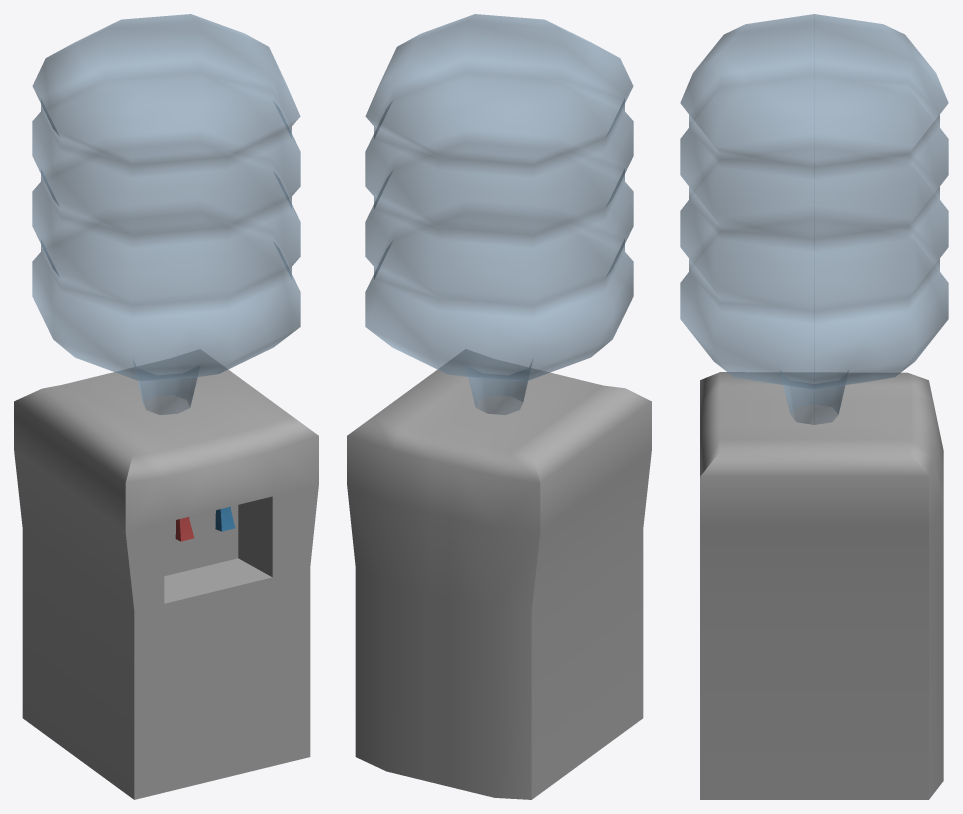
Rendered from water_cooler.fbx.
The picture shows the model from 3 angles, left to right: view 1: azimuth 30°, elevation 25°; view 2: azimuth 150°, elevation 25°; view 3: azimuth 270°, elevation 25°; orthographic projection. The views are drawn at different scales.
Visible parts, largest first — view 1: WaterCooler; view 2: WaterCooler; view 3: WaterCooler.
Part boxes in pixels (x1,y1,x2,y2): WaterCooler: [14, 14, 318, 799]; WaterCooler: [347, 14, 651, 799]; WaterCooler: [680, 14, 948, 799].
Size of the model in its own units: 6.55 by 6.55 by 19.19.
